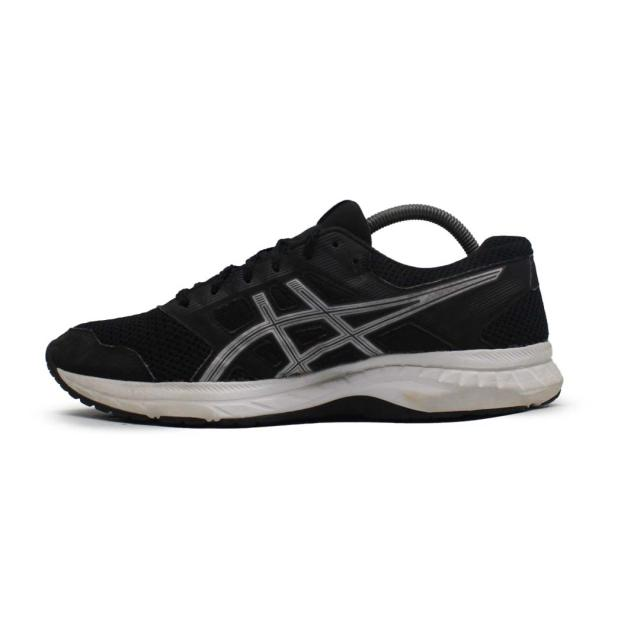heel: (472, 232, 547, 348)
midsole: (53, 340, 566, 420)
uppersole: (46, 198, 491, 382)
